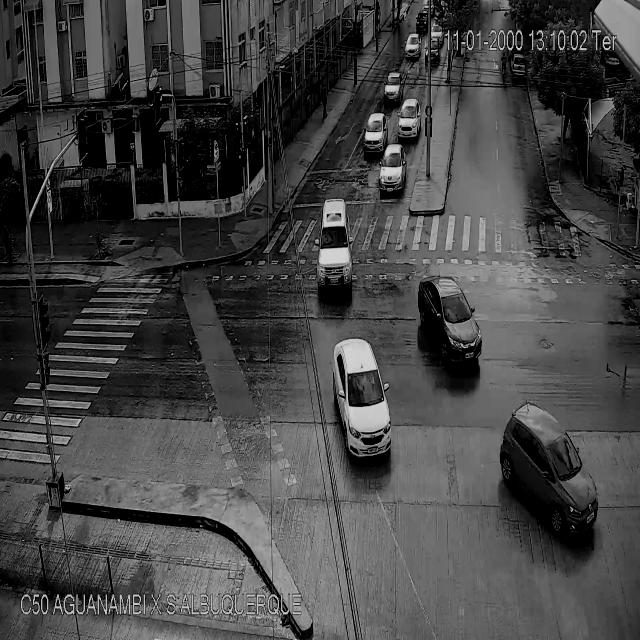Car: (500, 402, 599, 538), (334, 337, 393, 458), (418, 274, 482, 366), (314, 197, 354, 293), (379, 143, 405, 194), (364, 112, 387, 156), (398, 99, 420, 138), (382, 69, 403, 105), (424, 36, 439, 68), (406, 31, 422, 59), (510, 55, 527, 80), (431, 22, 443, 48), (416, 10, 427, 31)
